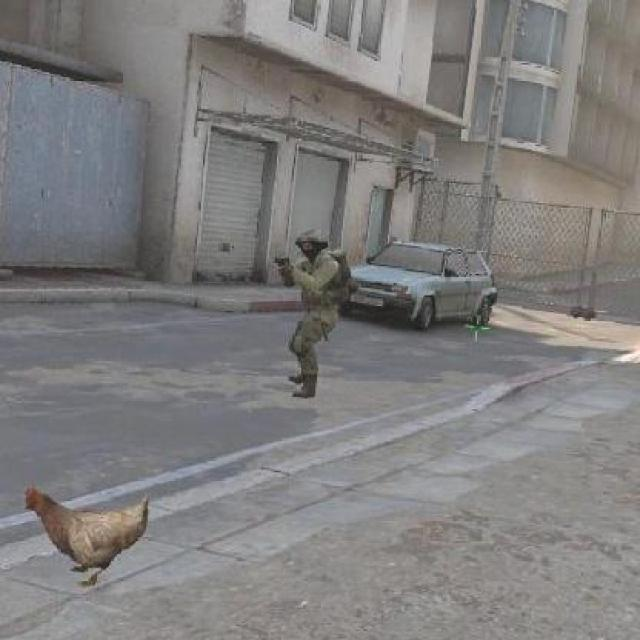CT-Body: (294, 230, 324, 256)
CT-Head: (274, 229, 346, 383)
